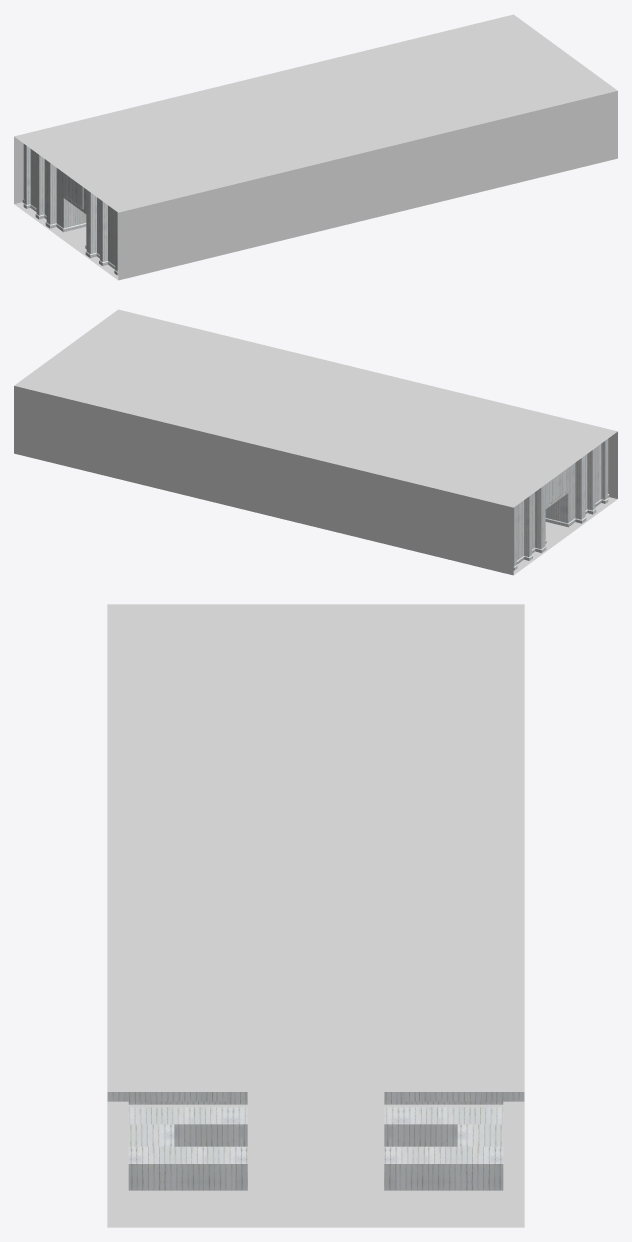
The model's file is MAP4.fbx.
3 views of the same model, one above another, from view 1: azimuth 30°, elevation 25°; view 2: azimuth 150°, elevation 25°; view 3: azimuth 270°, elevation 25° (orthographic). The views are drawn at different scales.
Parts seen in each view (by area): view 1: Box001, Box161; view 2: Box001, Box161; view 3: Box001, Box166, Box171, Box176, Box181.
Part boxes in pixels (bbox=[...]): Box001: bbox=[14, 14, 617, 280]; Box161: bbox=[22, 144, 118, 275]; Box001: bbox=[14, 309, 617, 575]; Box161: bbox=[513, 439, 609, 570]; Box001: bbox=[107, 604, 524, 1227]; Box166: bbox=[384, 1107, 503, 1190]; Box171: bbox=[128, 1107, 247, 1190]; Box176: bbox=[405, 1092, 524, 1101]; Box181: bbox=[107, 1092, 226, 1101].
Bounding box in the file's own units: 775 × 101 × 280.
1 material, 1 textured.
